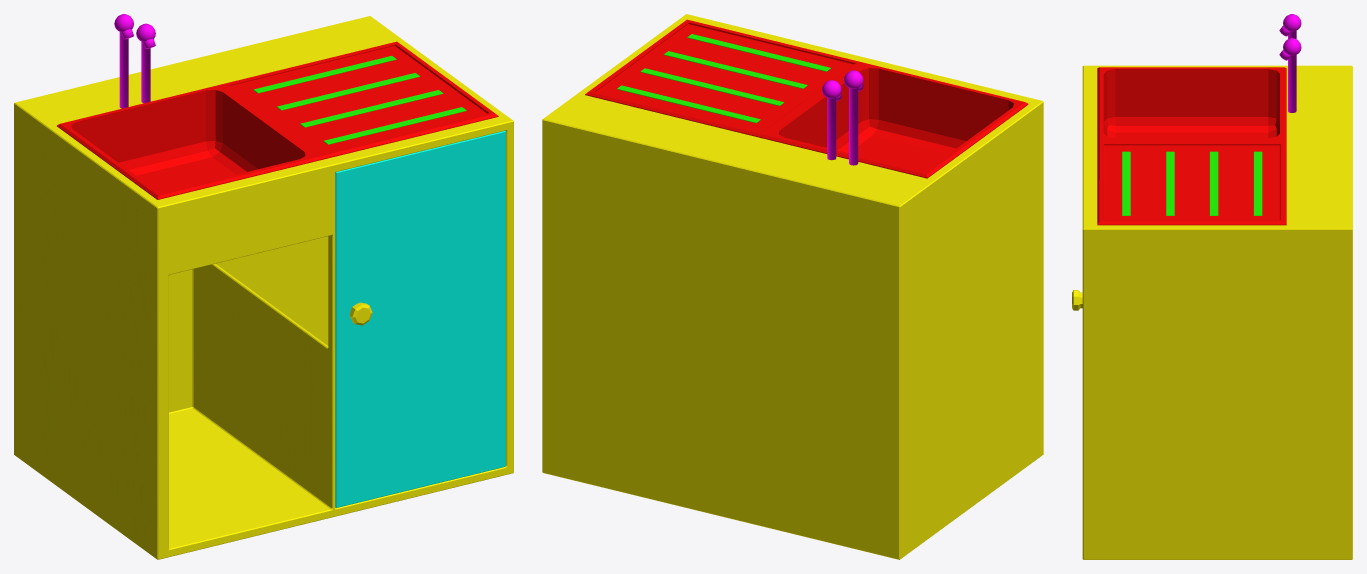
The model's file is umgebung_spuele_low.FBX.
3 renders of one model, left to right at view 1: azimuth 30°, elevation 25°; view 2: azimuth 150°, elevation 25°; view 3: azimuth 270°, elevation 25°, orthographic. The views are drawn at different scales.
Visible parts, largest first — view 1: o_schrank_low, o_schranktuer_low, o_spuele_low, o_rillen_low, o_wasserhahn_low; view 2: o_schrank_low, o_spuele_low, o_rillen_low, o_wasserhahn_low; view 3: o_schrank_low, o_spuele_low, o_rillen_low, o_wasserhahn_low.
Part boxes in pixels (x1=…): o_schrank_low: x1=14, y1=16, x2=513, y2=559; o_schranktuer_low: x1=335, y1=131, x2=505, y2=507; o_spuele_low: x1=57, y1=41, x2=498, y2=199; o_rillen_low: x1=253, y1=56, x2=466, y2=144; o_wasserhahn_low: x1=114, y1=14, x2=155, y2=108; o_schrank_low: x1=542, y1=14, x2=1043, y2=559; o_spuele_low: x1=585, y1=19, x2=1028, y2=178; o_rillen_low: x1=617, y1=34, x2=830, y2=123; o_wasserhahn_low: x1=822, y1=70, x2=863, y2=165; o_schrank_low: x1=1082, y1=65, x2=1352, y2=559; o_spuele_low: x1=1097, y1=67, x2=1286, y2=225; o_rillen_low: x1=1122, y1=151, x2=1262, y2=215; o_wasserhahn_low: x1=1283, y1=14, x2=1301, y2=112.
Bounding box in the file's own units: 143 × 104 × 171.
